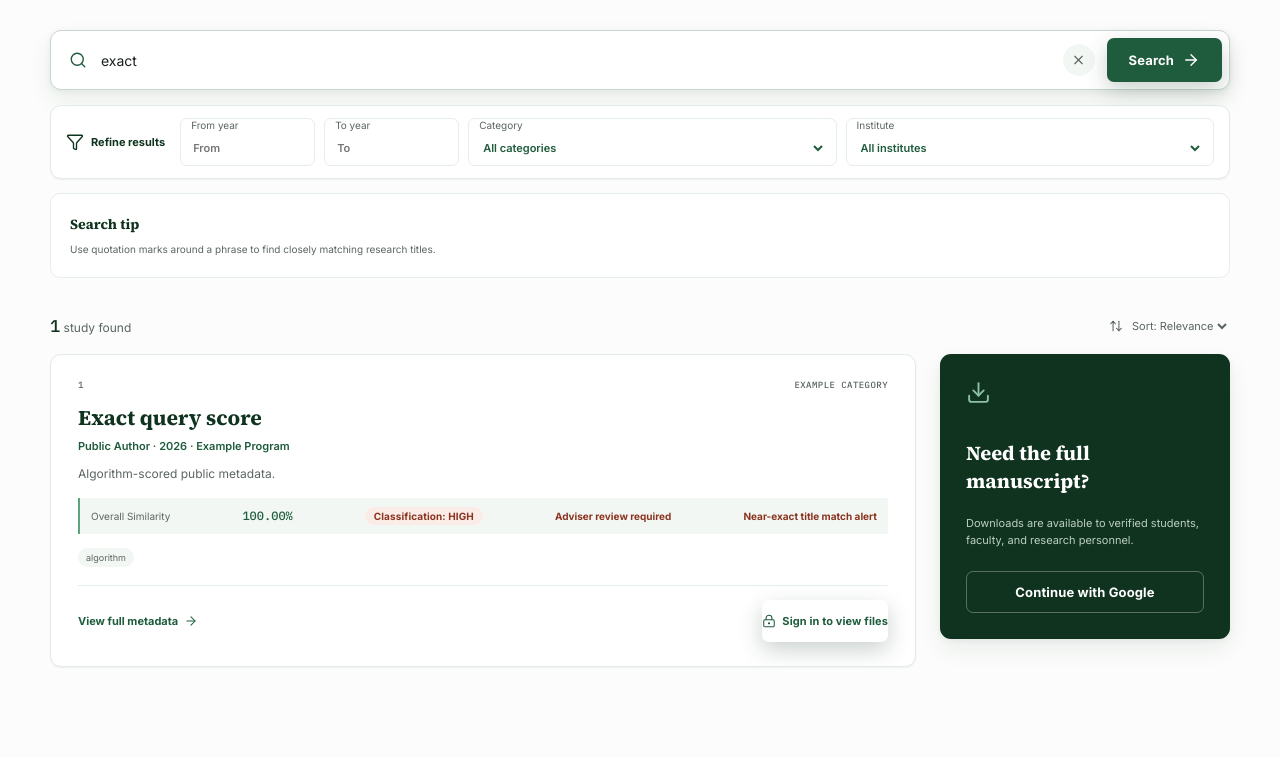
it: CatalogPage public similarity search › displays only the overall score, API classification, and alert statuses on the card
(page scrolled)
Expected: the text "Overall Similarity" is shown, 91,510 -> 170,522
Expected: the text "100.00%" is shown, 242,508 -> 293,524
Click the button "View full metadata": (138, 621) 78,600 -> 198,642
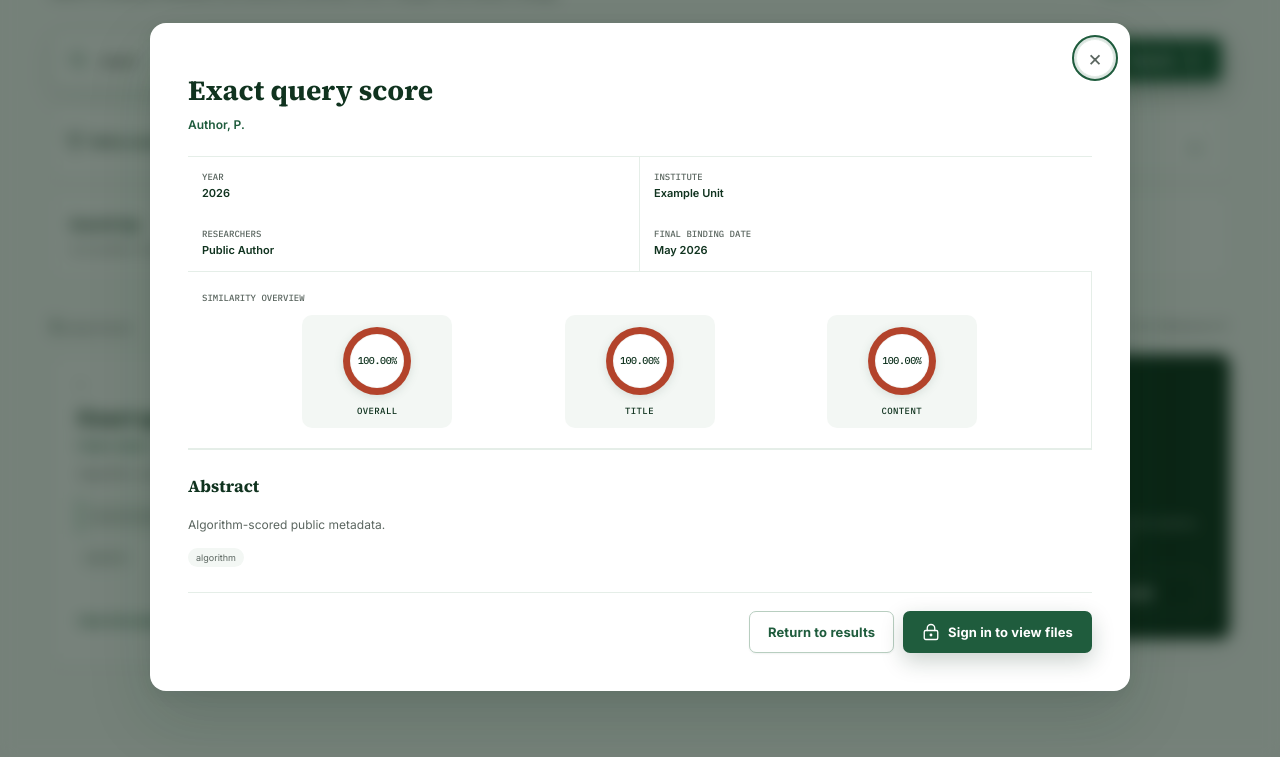
Result: the picture named "Overall similarity: 100.00%, classification HIGH" is shown at 343,327 -> 411,395
Result: the picture named "Title similarity: 100.00%, classification HIGH" is shown at 606,327 -> 674,395
Result: the picture named "Content similarity: 100.00%, classification HIGH" is shown at 868,327 -> 936,395
